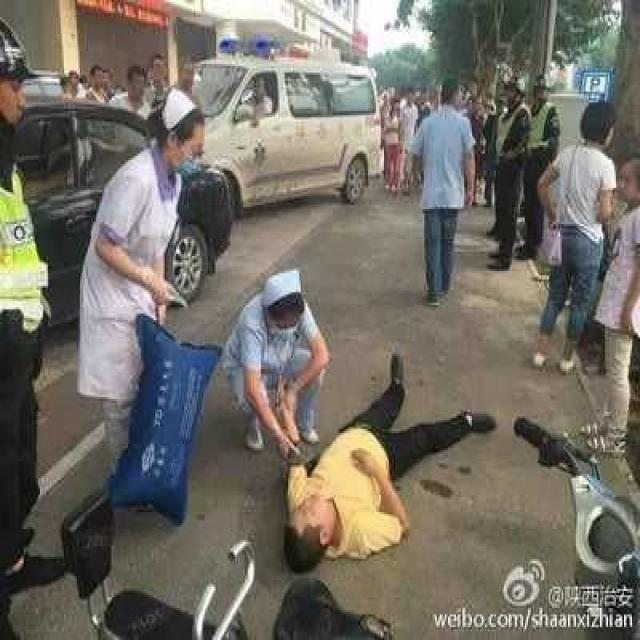10-: (0, 6, 637, 636)
down: (256, 316, 509, 582)
